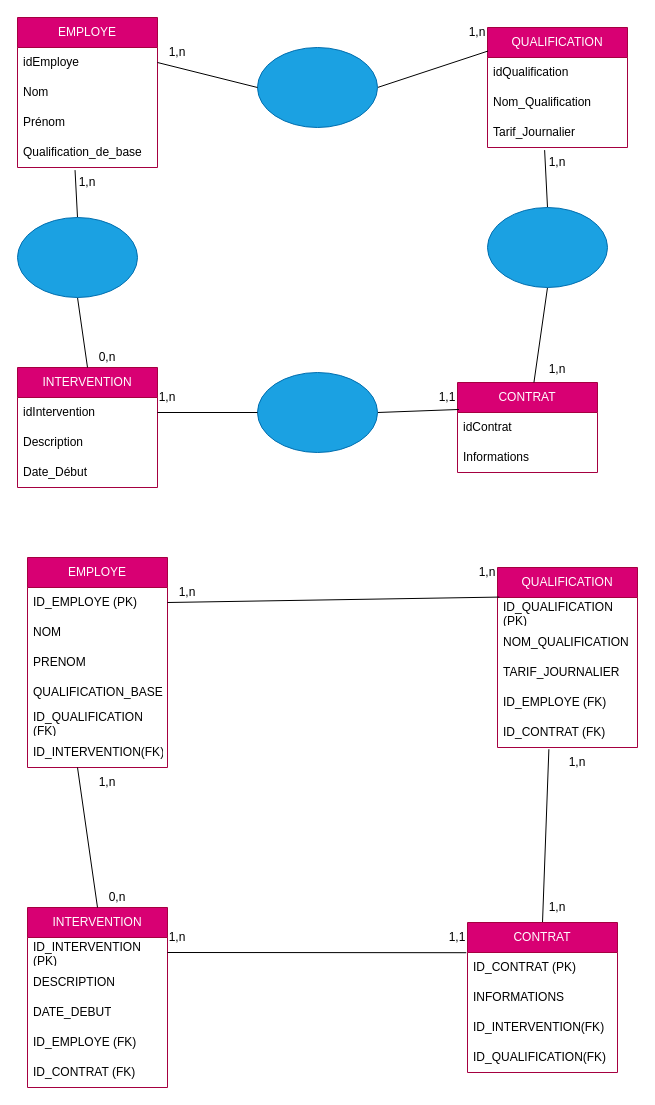
This 655x1105 diagram has some shape labels left out. The centre of each missing label's shape, as x and y in pixels:
CONCERNE: [77,257]
DETERMINE: [547,247]
EST LIEE A: [317,412]
POSSEDE: [317,87]
